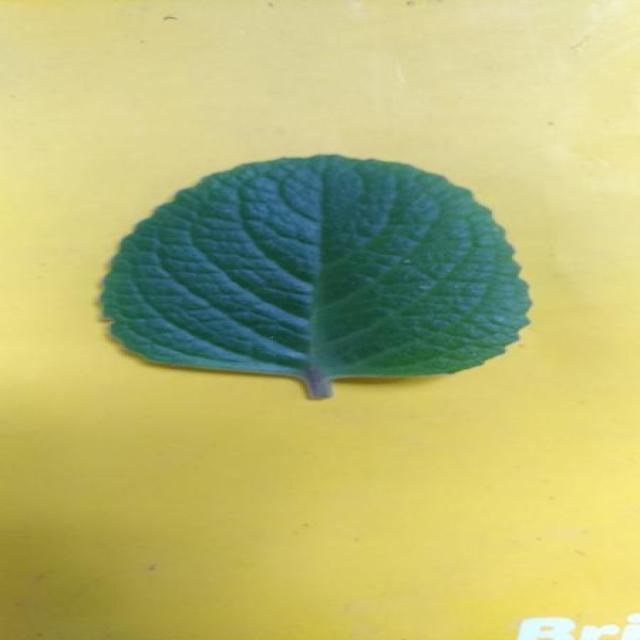doddpathre: (102, 155, 530, 398)
